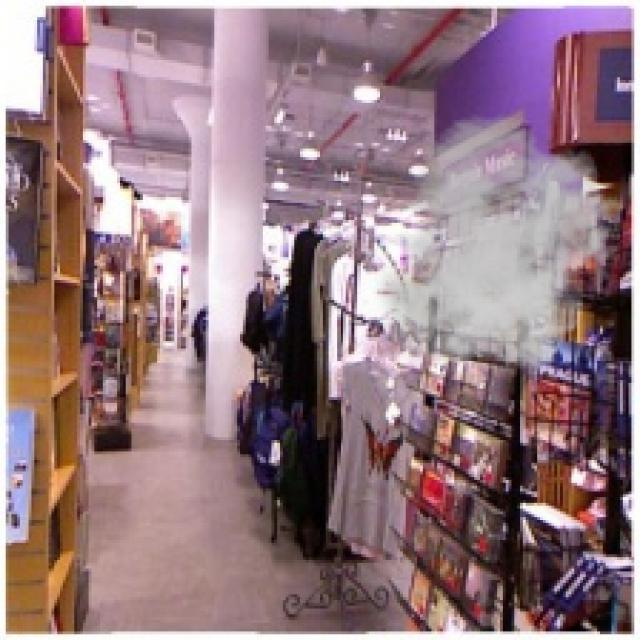Smoke: (371, 114, 620, 380)
